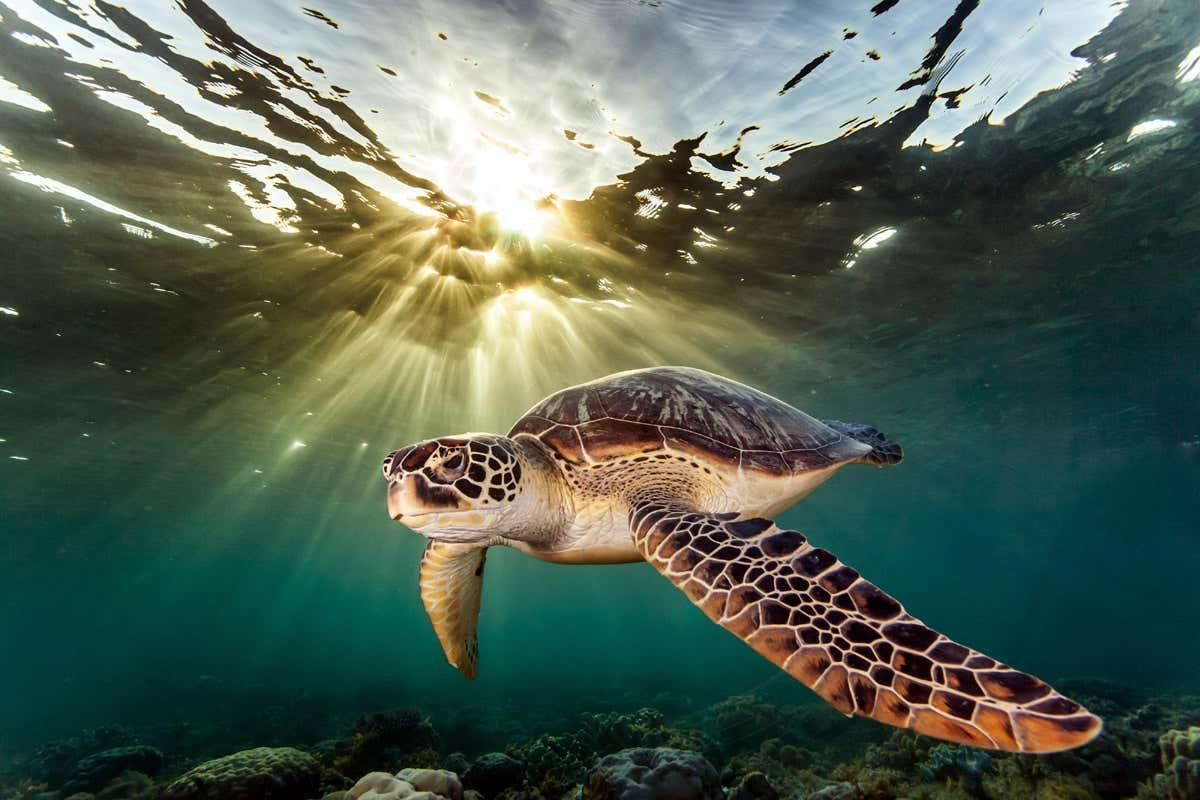turtle: (374, 426, 538, 556)
